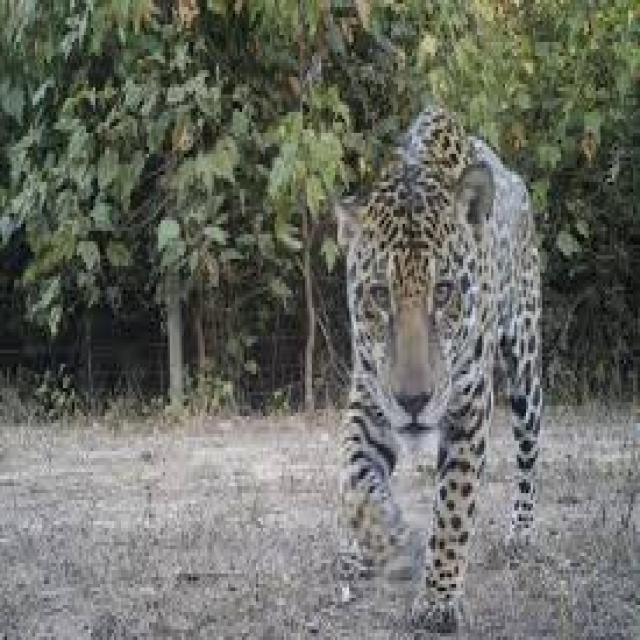Jaguar: (326, 105, 544, 640)
